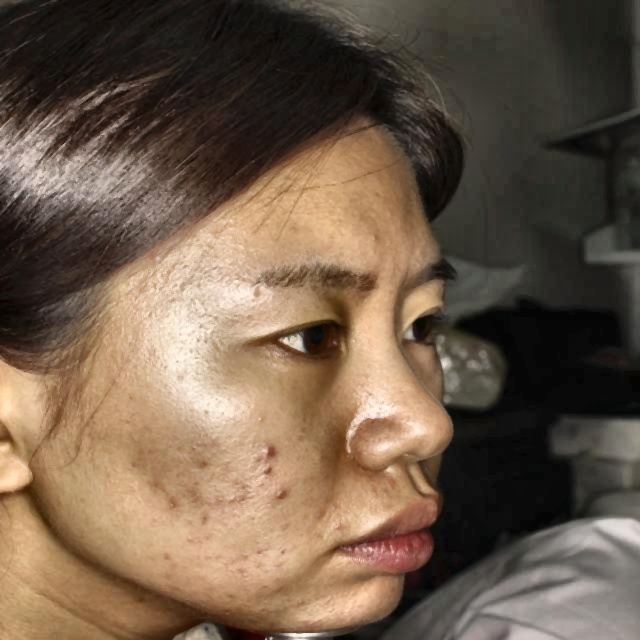pustule: (215, 598, 252, 628), (268, 479, 295, 505), (254, 456, 286, 476), (259, 434, 284, 456), (162, 546, 182, 568), (167, 490, 180, 510)
